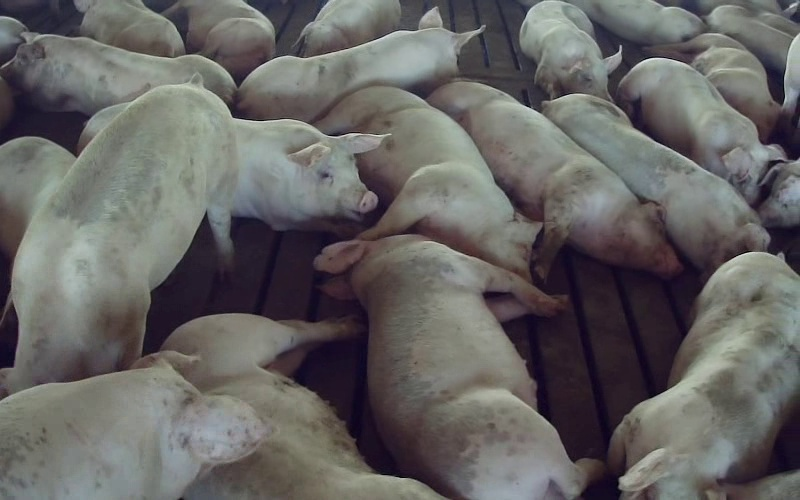pig: (315, 235, 601, 499), (0, 85, 237, 395), (162, 314, 442, 499), (428, 82, 681, 277), (608, 252, 799, 499), (315, 86, 540, 279), (543, 94, 769, 276), (0, 351, 268, 499), (236, 7, 483, 122), (616, 58, 786, 205), (232, 119, 383, 232), (644, 33, 780, 142), (520, 0, 621, 100), (162, 0, 274, 83), (74, 0, 184, 56), (567, 0, 705, 44), (292, 0, 400, 56)
